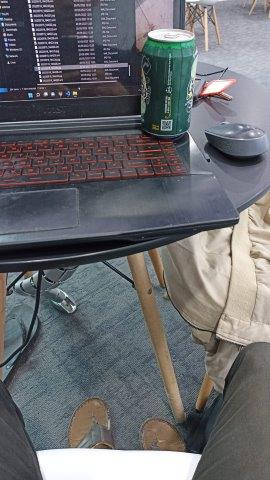kaleng: (141, 29, 198, 137)
